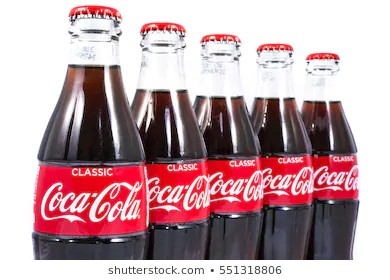coke-glass-bottle: (33, 6, 148, 268), (133, 19, 211, 260), (200, 30, 263, 260), (252, 44, 313, 263), (306, 52, 359, 260)
